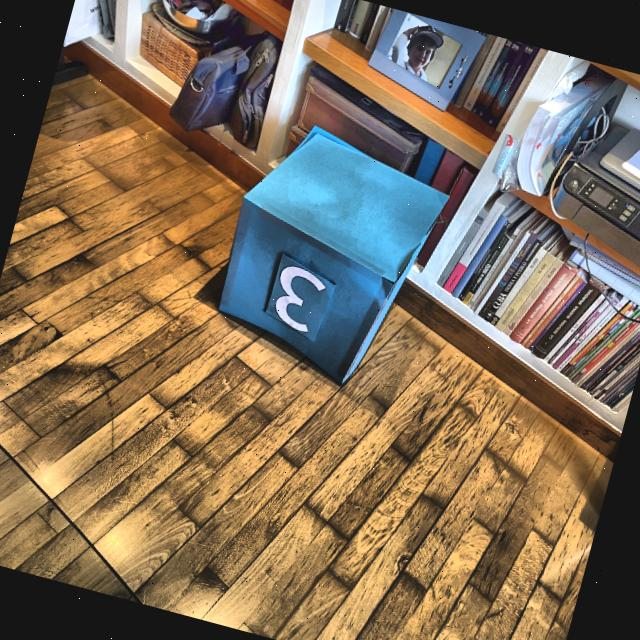blue box: (197, 102, 457, 404)
three: (260, 255, 338, 345)
